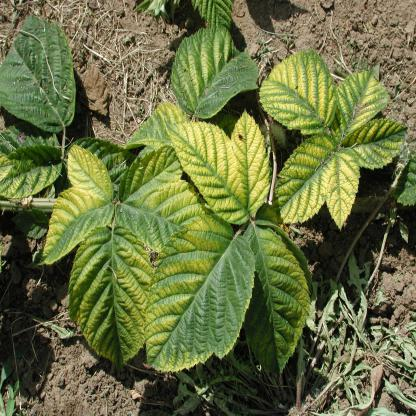raspberry leaf: (145, 215, 256, 379), (67, 228, 156, 371), (234, 220, 313, 381), (168, 115, 271, 226), (42, 136, 119, 271), (268, 136, 361, 231), (259, 52, 338, 136), (337, 63, 391, 133)
